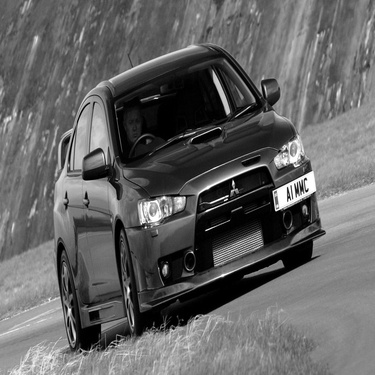car: (45, 30, 349, 340)
